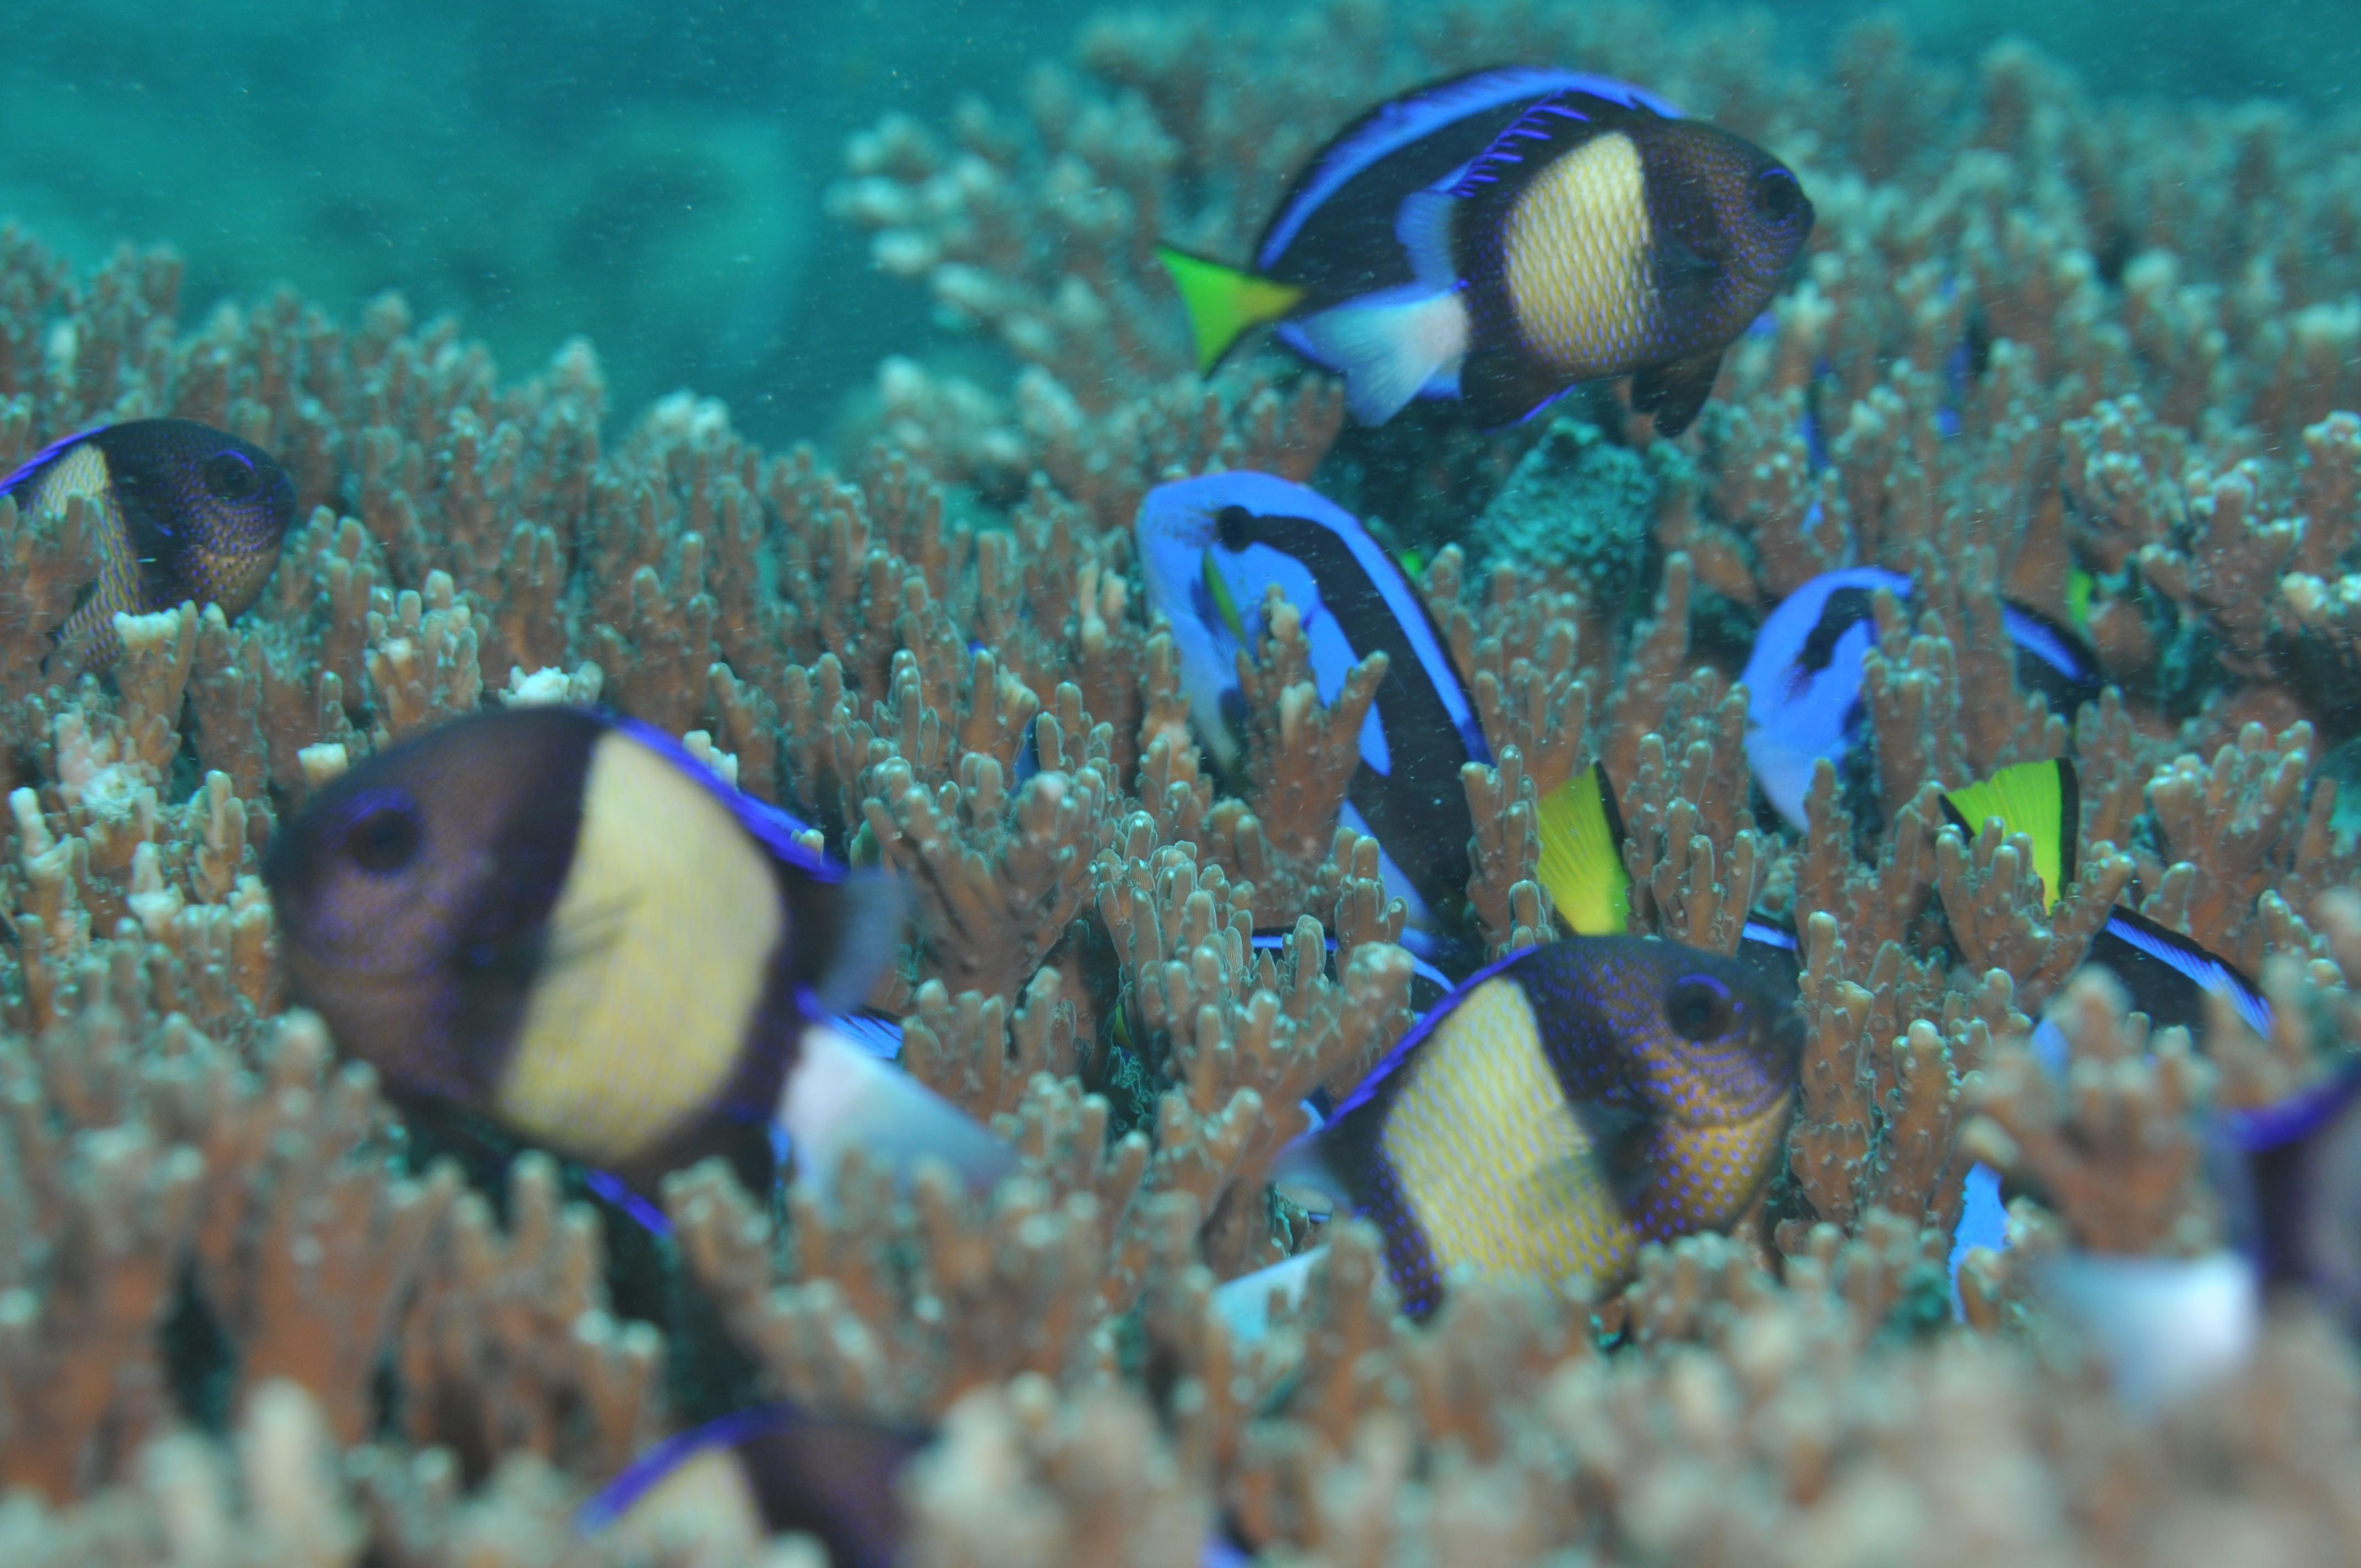Dascyllus reticulatus: (257, 700, 1066, 1267), (1239, 931, 1831, 1372), (1290, 77, 1820, 453), (0, 408, 345, 677)
